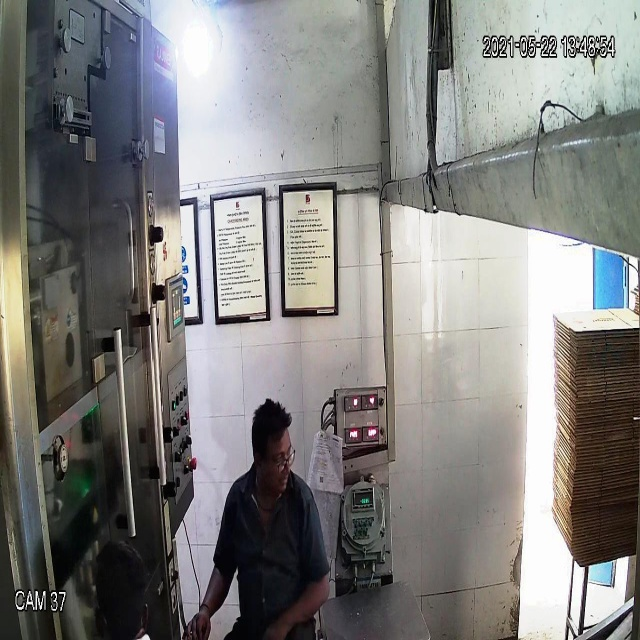Gafas: (249, 444, 297, 476)
